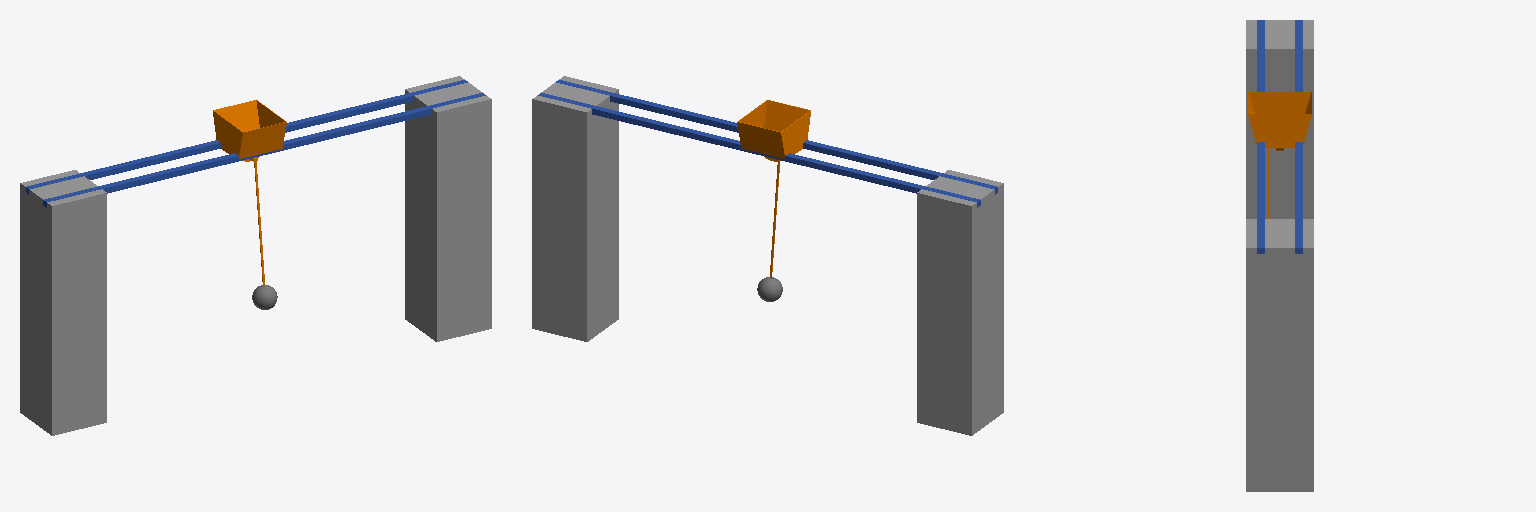
The robot description file, URDF, robot "cart_pendulum":
<?xml version="1.0" ?>
<!-- Generated using onshape-to-robot -->
<!-- Onshape https://cad.onshape.com/documents/02830e503a1c2626d58e0780/w/62db7934caa01effe231f1a9/e/7a54001999a01ae1aa1652f0 -->
<robot name="cart_pendulum">
  <!-- Link mount_rail_2 -->
  <link name="mount_rail_2">
    <inertial>
      <origin xyz="0 0 0" rpy="0 0 0"/>
      <mass value="1e-09"/>
      <inertia ixx="1e-09" ixy="0" ixz="0" iyy="1e-09" iyz="0" izz="1e-09"/>
    </inertial>
    <!-- Part mount_rail_2 -->
    <visual>
      <origin xyz="-1.86924 0.133974 -0.253271" rpy="0 -0 0"/>
      <geometry>
        <mesh filename="package://assets/mount_rail_2.stl"/>
      </geometry>
      <material name="mount_rail_2_material">
        <color rgba="0.647059 0.647059 0.647059 1"/>
      </material>
    </visual>
    <collision>
      <origin xyz="-1.86924 0.133974 -0.253271" rpy="0 -0 0"/>
      <geometry>
        <mesh filename="package://assets/mount_rail_2.stl"/>
      </geometry>
    </collision>
    <!-- Part rail_1 -->
    <visual>
      <origin xyz="-0.119243 0.133974 -0.253271" rpy="0 -0 0"/>
      <geometry>
        <mesh filename="package://assets/rail_1.stl"/>
      </geometry>
      <material name="rail_1_material">
        <color rgba="0.231373 0.380392 0.705882 1"/>
      </material>
    </visual>
    <collision>
      <origin xyz="-0.119243 0.133974 -0.253271" rpy="0 -0 0"/>
      <geometry>
        <mesh filename="package://assets/rail_1.stl"/>
      </geometry>
    </collision>
    <!-- Part mount_rail_2_2 -->
    <visual>
      <origin xyz="-0.119243 0.133974 -0.253271" rpy="0 -0 0"/>
      <geometry>
        <mesh filename="package://assets/mount_rail_2.stl"/>
      </geometry>
      <material name="mount_rail_2_2_material">
        <color rgba="0.647059 0.647059 0.647059 1"/>
      </material>
    </visual>
    <collision>
      <origin xyz="-0.119243 0.133974 -0.253271" rpy="0 -0 0"/>
      <geometry>
        <mesh filename="package://assets/mount_rail_2.stl"/>
      </geometry>
    </collision>
    <!-- Part rail_1_2 -->
    <visual>
      <origin xyz="-0.119243 -0.00602567 -0.253271" rpy="0 -0 0"/>
      <geometry>
        <mesh filename="package://assets/rail_1.stl"/>
      </geometry>
      <material name="rail_1_2_material">
        <color rgba="0.231373 0.380392 0.705882 1"/>
      </material>
    </visual>
    <collision>
      <origin xyz="-0.119243 -0.00602567 -0.253271" rpy="0 -0 0"/>
      <geometry>
        <mesh filename="package://assets/rail_1.stl"/>
      </geometry>
    </collision>
  </link>
  <!-- Link cart -->
  <link name="cart">
    <inertial>
      <origin xyz="0 0 0" rpy="0 0 0"/>
      <mass value="1e-09"/>
      <inertia ixx="1e-09" ixy="0" ixz="0" iyy="1e-09" iyz="0" izz="1e-09"/>
    </inertial>
    <!-- Part cart -->
    <visual>
      <origin xyz="0.07 1 0" rpy="1.5708 1.5708 0"/>
      <geometry>
        <mesh filename="package://assets/cart.stl"/>
      </geometry>
      <material name="cart_material">
        <color rgba="0.972549 0.529412 0.00392157 1"/>
      </material>
    </visual>
    <collision>
      <origin xyz="0.07 1 0" rpy="1.5708 1.5708 0"/>
      <geometry>
        <mesh filename="package://assets/cart.stl"/>
      </geometry>
    </collision>
  </link>
  <!-- Link pendulum -->
  <link name="pendulum">
    <inertial>
      <origin xyz="0 0 0" rpy="0 0 0"/>
      <mass value="1e-09"/>
      <inertia ixx="1e-09" ixy="0" ixz="0" iyy="1e-09" iyz="0" izz="1e-09"/>
    </inertial>
    <!-- Part pendulum_bob -->
    <visual>
      <origin xyz="-0.1 0.9406 -0.03" rpy="1.5708 -0 0"/>
      <geometry>
        <mesh filename="package://assets/pendulum_bob.stl"/>
      </geometry>
      <material name="pendulum_bob_material">
        <color rgba="0.498039 0.498039 0.498039 1"/>
      </material>
    </visual>
    <collision>
      <origin xyz="-0.1 0.9406 -0.03" rpy="1.5708 -0 0"/>
      <geometry>
        <mesh filename="package://assets/pendulum_bob.stl"/>
      </geometry>
    </collision>
    <!-- Part pendulum -->
    <visual>
      <origin xyz="-0.1 0.9406 -0.03" rpy="1.5708 -0 0"/>
      <geometry>
        <mesh filename="package://assets/pendulum.stl"/>
      </geometry>
      <material name="pendulum_material">
        <color rgba="0.972549 0.529412 0.00392157 1"/>
      </material>
    </visual>
    <collision>
      <origin xyz="-0.1 0.9406 -0.03" rpy="1.5708 -0 0"/>
      <geometry>
        <mesh filename="package://assets/pendulum.stl"/>
      </geometry>
    </collision>
  </link>
  <!-- Joint from cart to pendulum -->
  <joint name="cart_pendulum" type="revolute">
    <origin xyz="0.085 0.0594 -0.1" rpy="-1.5708 1.4987 -1.5708"/>
    <parent link="cart"/>
    <child link="pendulum"/>
    <axis xyz="0 0 1"/>
    <limit effort="10" velocity="10" lower="-3.141592653589793" upper="3.141592653589793"/>
  </joint>
  <!-- Joint from mount_rail_2 to cart -->
  <joint name="jt_rail_cart" type="prismatic">
    <origin xyz="-0.247489 0.0639743 0.746729" rpy="-1.5708 -0 1.5708"/>
    <parent link="mount_rail_2"/>
    <child link="cart"/>
    <axis xyz="0 0 1"/>
    <limit effort="10" velocity="10" lower="-1" upper="1"/>
  </joint>
</robot>

--- Facts derived from the render (not from the file) ---
3 views of the same robot in one strip: view 1: azimuth 30°, elevation 25°; view 2: azimuth 150°, elevation 25°; view 3: azimuth 270°, elevation 25° (orthographic).
Model cart_pendulum with 3 links and 2 joints (1 revolute, 1 prismatic), rooted at mount_rail_2, posed all joints at 0.
Links seen in each view (by area): view 1: mount_rail_2, cart, pendulum; view 2: mount_rail_2, cart, pendulum; view 3: mount_rail_2, cart.
Link boxes in pixels (box(x1,y1,x2,y2)): mount_rail_2: box(20, 76, 491, 435); cart: box(213, 100, 286, 161); pendulum: box(250, 157, 277, 309); mount_rail_2: box(532, 76, 1003, 435); cart: box(737, 100, 810, 161); pendulum: box(757, 158, 782, 301); mount_rail_2: box(1246, 20, 1313, 491); cart: box(1248, 92, 1311, 150).
Bounding box of the posed robot: 2 × 0.25 × 1.11 m (x, y, z).
7 mesh visuals loaded from 5 distinct referenced files (5 binary STL).